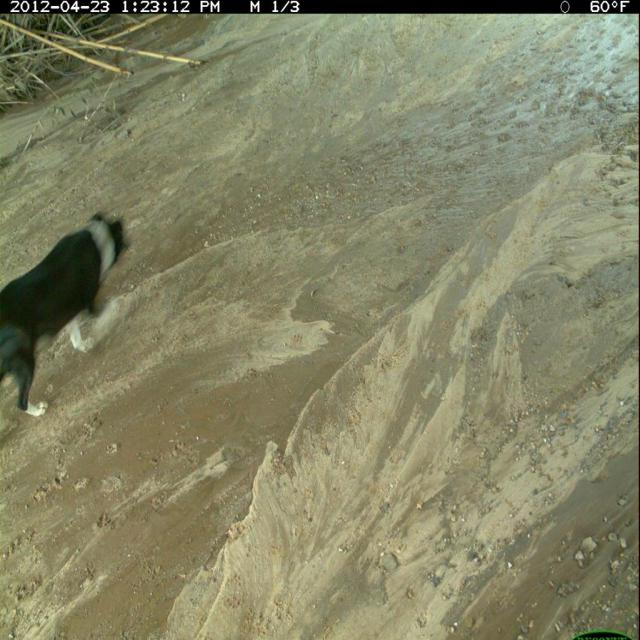dog: (1, 207, 135, 427)
